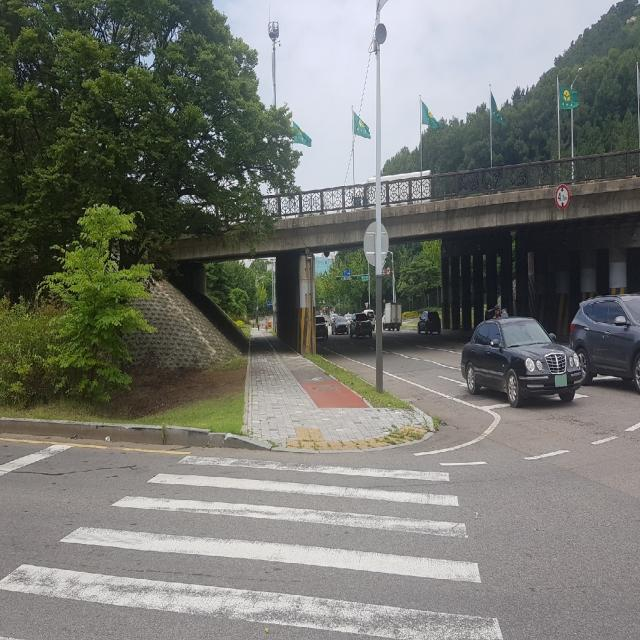횡단보도: (0, 453, 506, 640)
